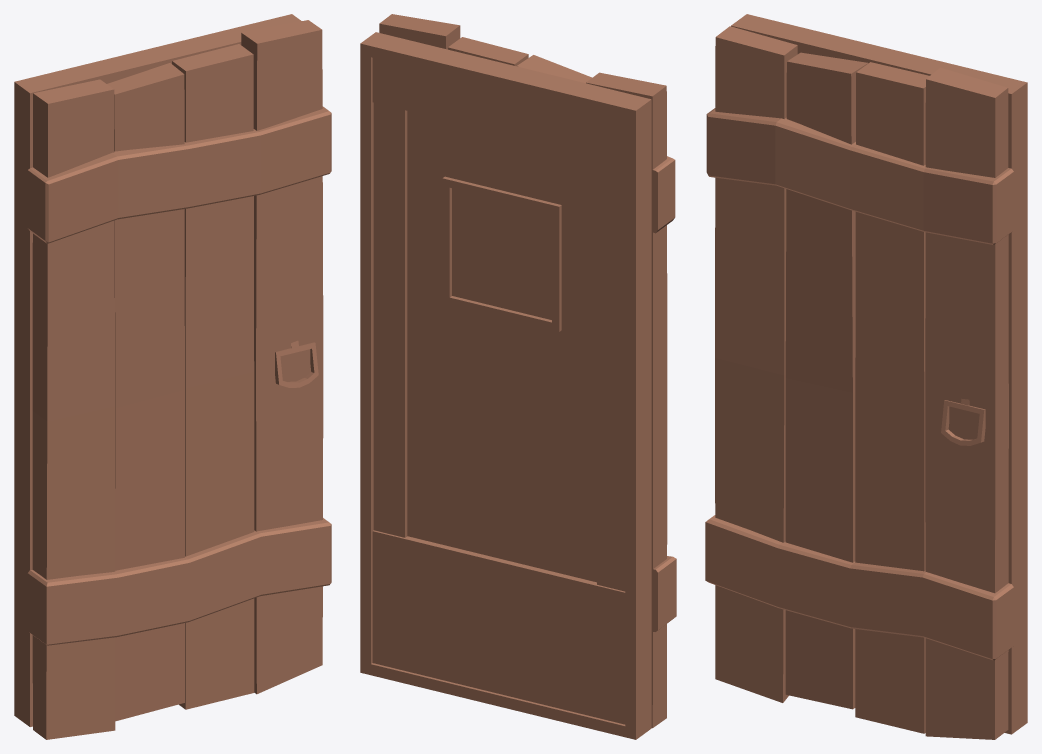
The model's file is Village_Door_C.fbx.
The picture shows the model from 3 angles, left to right: view 1: azimuth 30°, elevation 25°; view 2: azimuth 150°, elevation 25°; view 3: azimuth 330°, elevation 25°; orthographic projection.
Visible parts, largest first — view 1: Cube.008; view 2: Cube.008; view 3: Cube.008.
Boxes of the visible parts, bbox=[...] form: Cube.008: bbox=[14, 14, 331, 739]; Cube.008: bbox=[360, 14, 676, 739]; Cube.008: bbox=[705, 14, 1027, 739].
Size of the model in its own units: 85.14 by 185 by 19.58.
